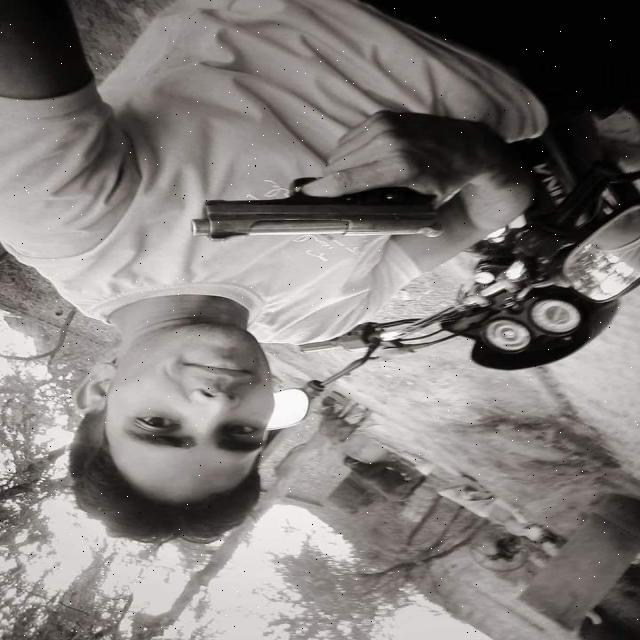gun: (174, 123, 456, 252)
